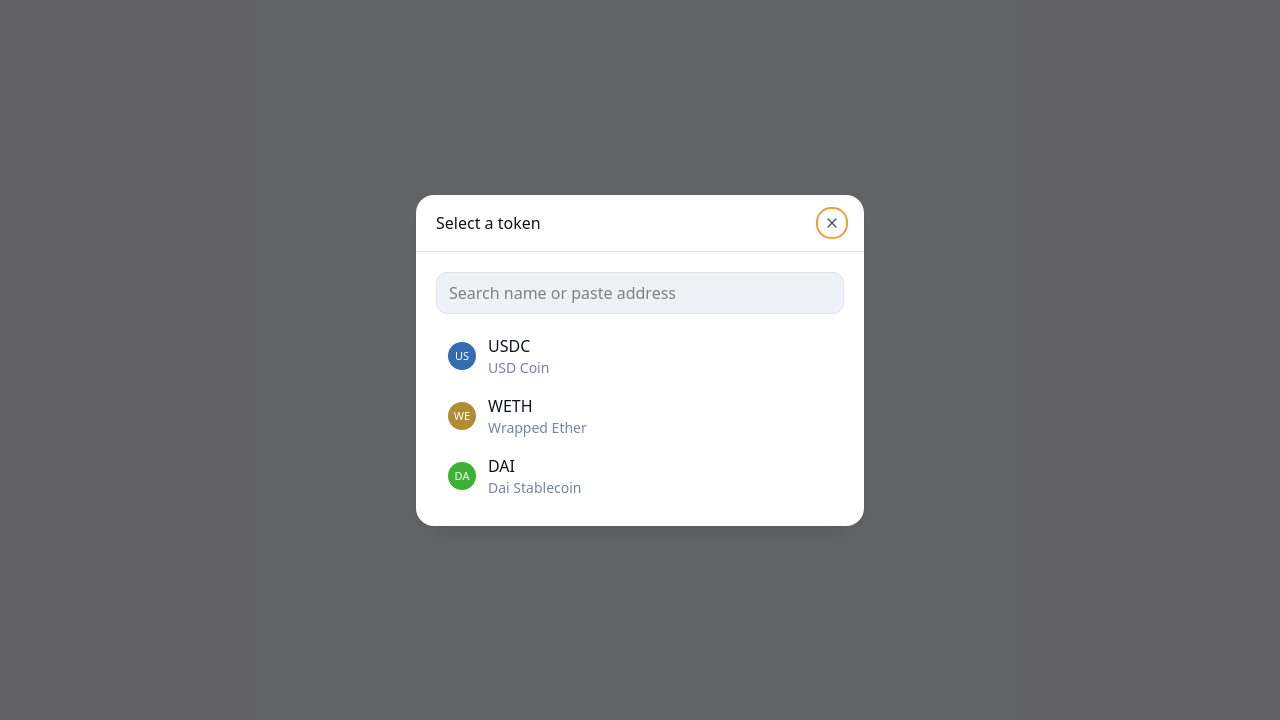
Test: TokenSelectModal › filters the list by symbol or name, case-insensitively
Step 1. Type "dai" into the field named "Search tokens" → point(640, 292), box [436,272,844,314]
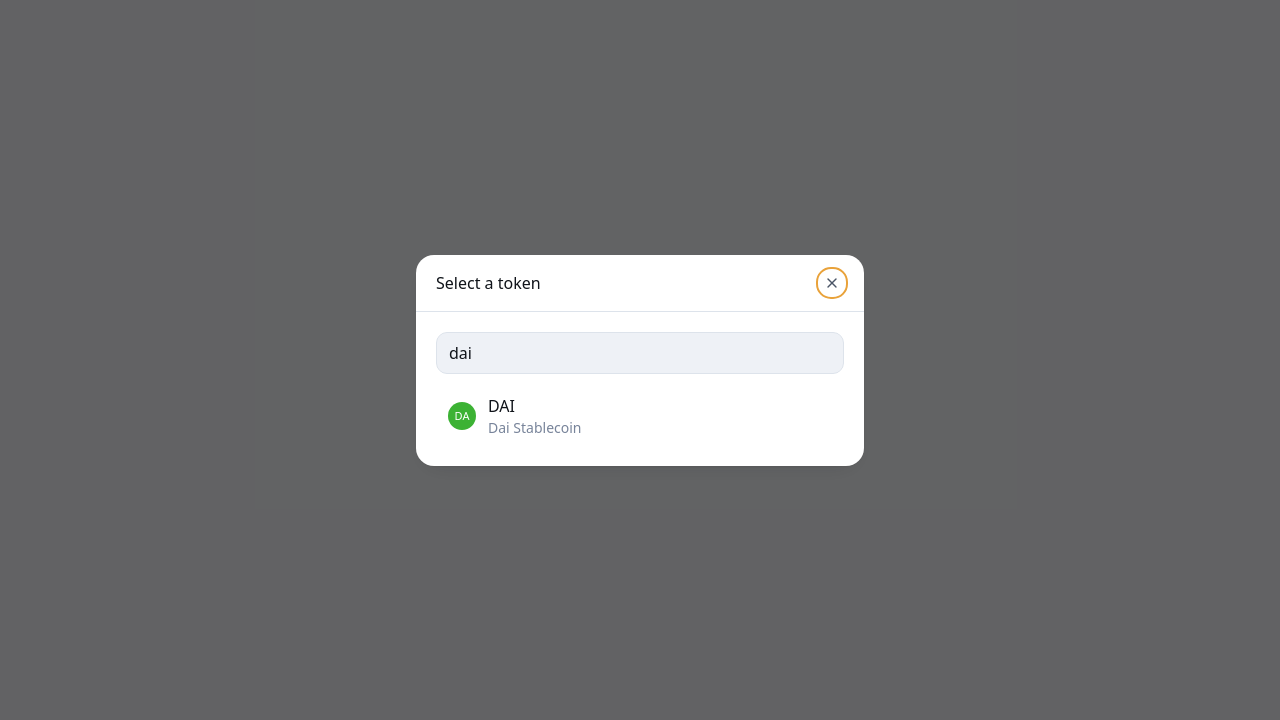
Expected: the text "DAI" is shown, [488,394,515,416]
Now the button "USDC" is gone
Now the button "WETH" is gone
